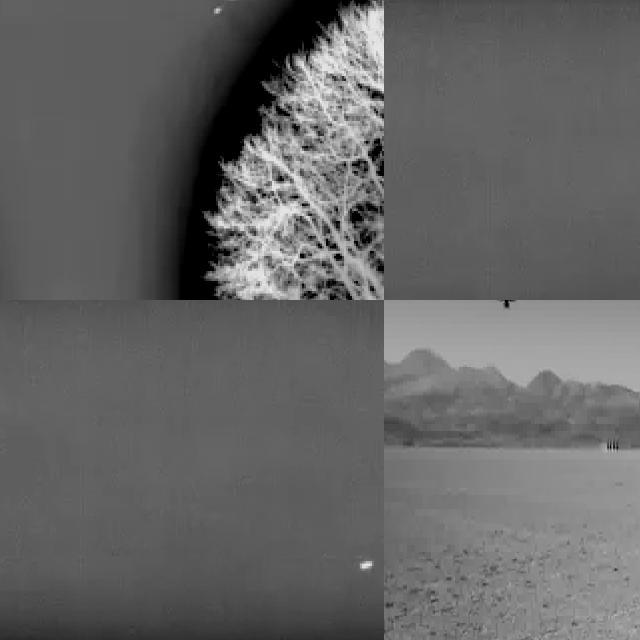0: (206, 0, 244, 20)
1: (345, 552, 381, 582)
drone: (492, 300, 519, 316)
